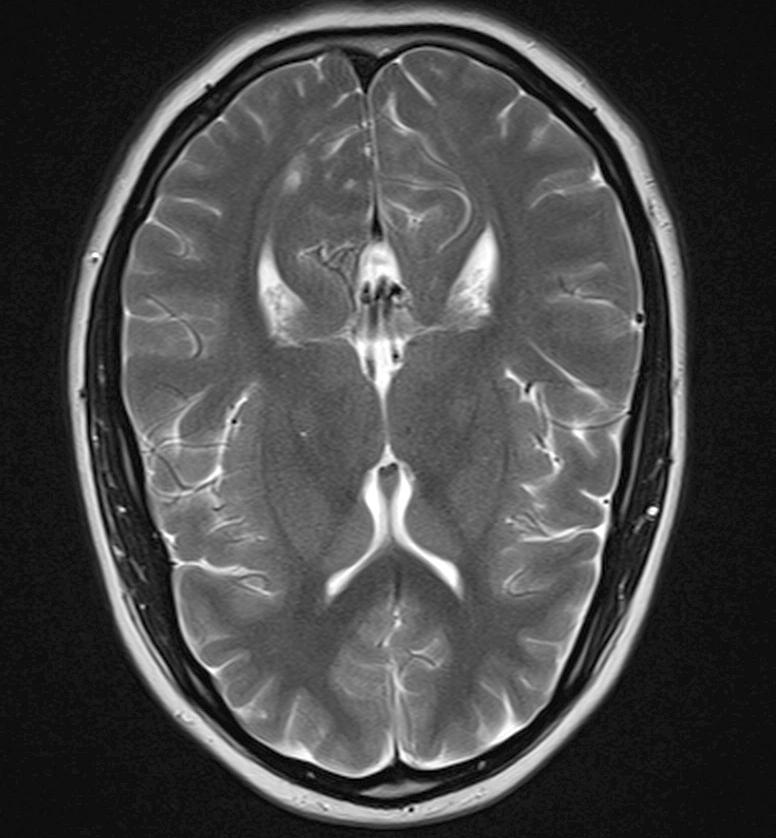Normal_Brain: (1, 1, 776, 838)
